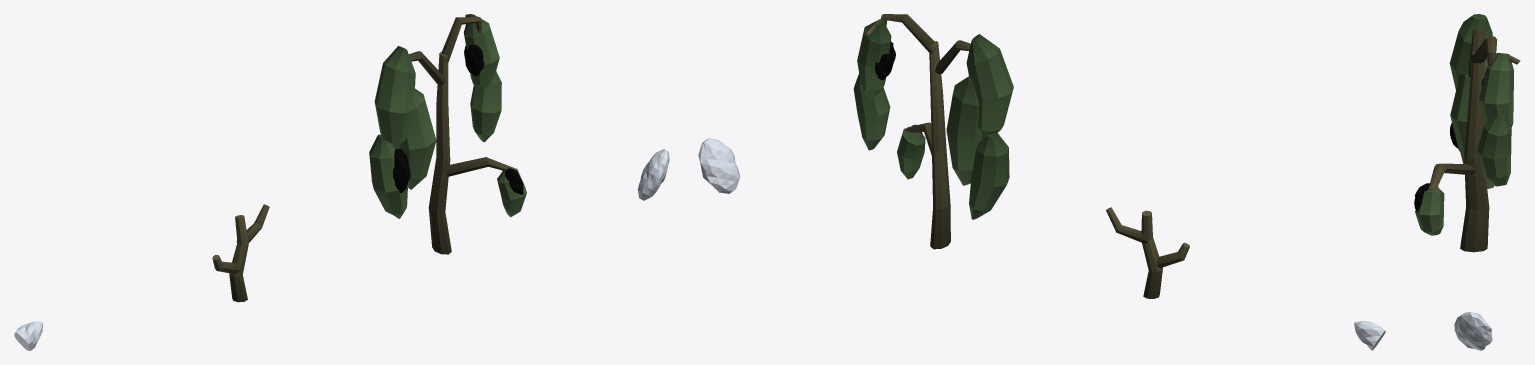
The picture shows the model from 3 angles, left to right: view 1: azimuth 30°, elevation 25°; view 2: azimuth 150°, elevation 25°; view 3: azimuth 270°, elevation 25°; orthographic projection. The views are drawn at different scales.
Parts seen in each view (by area): view 1: E_3, E_2, E_4, E_1; view 2: E_3, E_2, E_4, E_1; view 3: E_3, E_4.
Boxes of the visible parts, x1,y1,x2,y2 form: E_3: (369, 14, 526, 254); E_2: (212, 204, 269, 302); E_4: (637, 149, 669, 200); E_1: (14, 321, 42, 350); E_3: (853, 14, 1013, 249); E_2: (1106, 207, 1189, 298); E_4: (698, 138, 740, 193); E_1: (1354, 321, 1385, 350); E_3: (1414, 14, 1520, 252); E_4: (1454, 312, 1492, 350).
Bounding box in the file's own units: 311 × 100 × 42.88.
